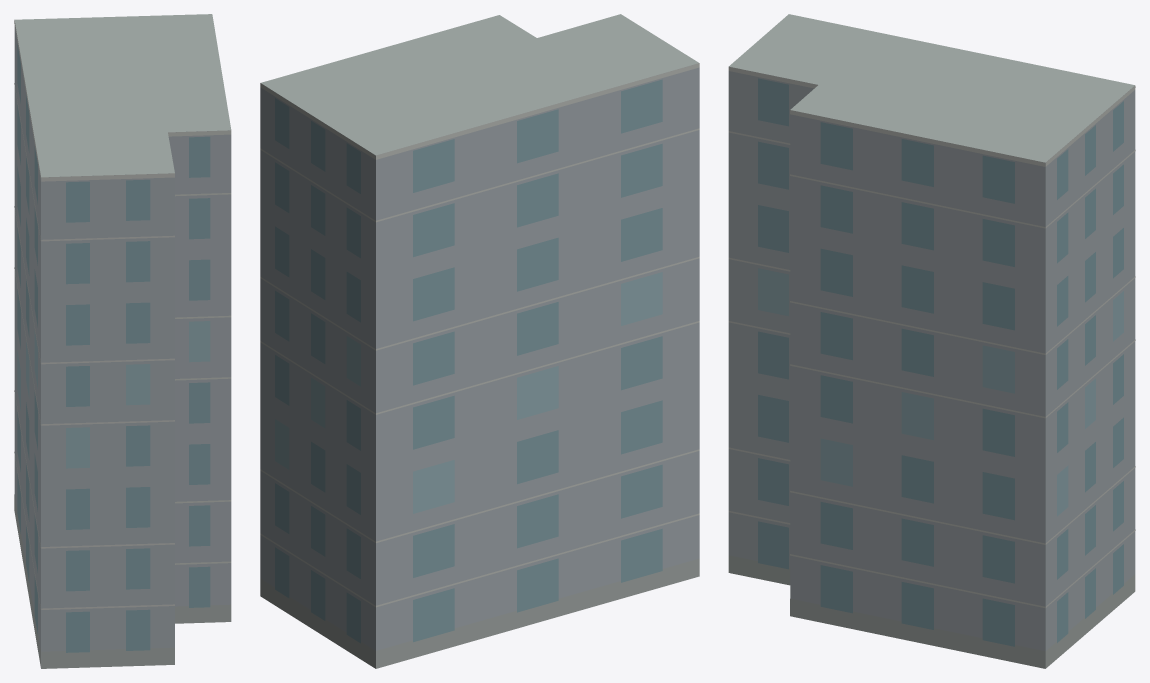
Rendered from survey-upis-32529933.glb.
3 views of the same model, side by side, from view 1: azimuth 30°, elevation 25°; view 2: azimuth 150°, elevation 25°; view 3: azimuth 270°, elevation 25° (orthographic). The views are drawn at different scales.
Visible parts, largest first — view 1: survey-upis-32529933.tmp; view 2: survey-upis-32529933.tmp; view 3: survey-upis-32529933.tmp.
Part boxes in pixels (x1,y1,x2,y2): survey-upis-32529933.tmp: [14, 14, 231, 668]; survey-upis-32529933.tmp: [260, 14, 699, 668]; survey-upis-32529933.tmp: [728, 14, 1135, 668].
Bounding box in the file's own units: 17.85 × 28.3 × 20.63.
